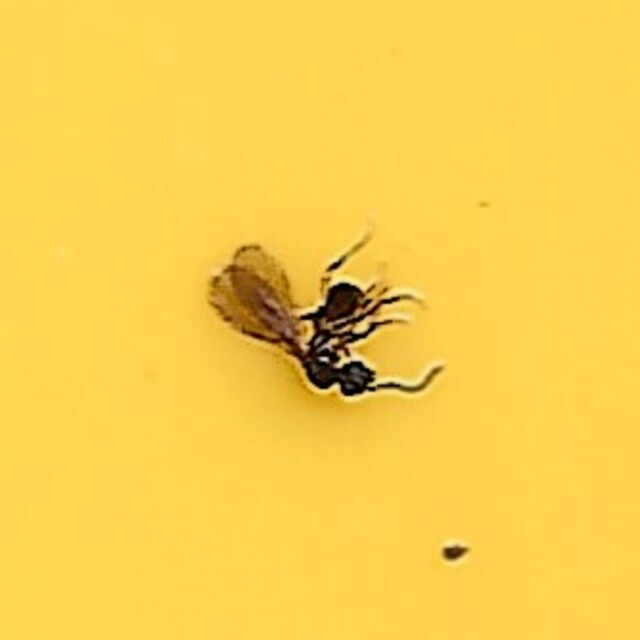Hymenoptera: (190, 230, 450, 410)
